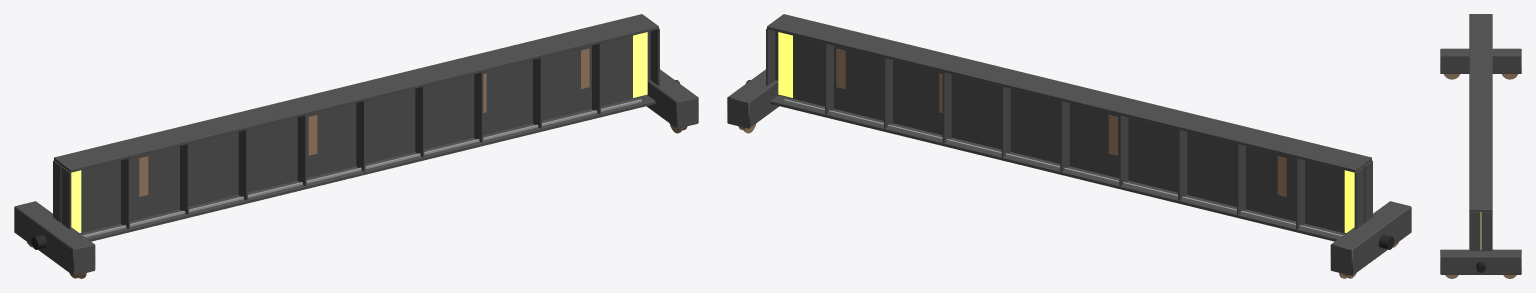
The model's file is cellar_crane_bridge.glb.
3 views of the same model, side by side, from view 1: azimuth 30°, elevation 25°; view 2: azimuth 150°, elevation 25°; view 3: azimuth 270°, elevation 25° (orthographic). The views are drawn at different scales.
Parts seen in each view (by area): view 1: cellar_crane_bridge; view 2: cellar_crane_bridge; view 3: cellar_crane_bridge.
Boxes of the visible parts, <box> form: cellar_crane_bridge: <box>14,14,698,278</box>; cellar_crane_bridge: <box>727,14,1411,278</box>; cellar_crane_bridge: <box>1440,14,1521,278</box>.
Bounding box in the file's own units: 8.74 × 1.27 × 1.4.
